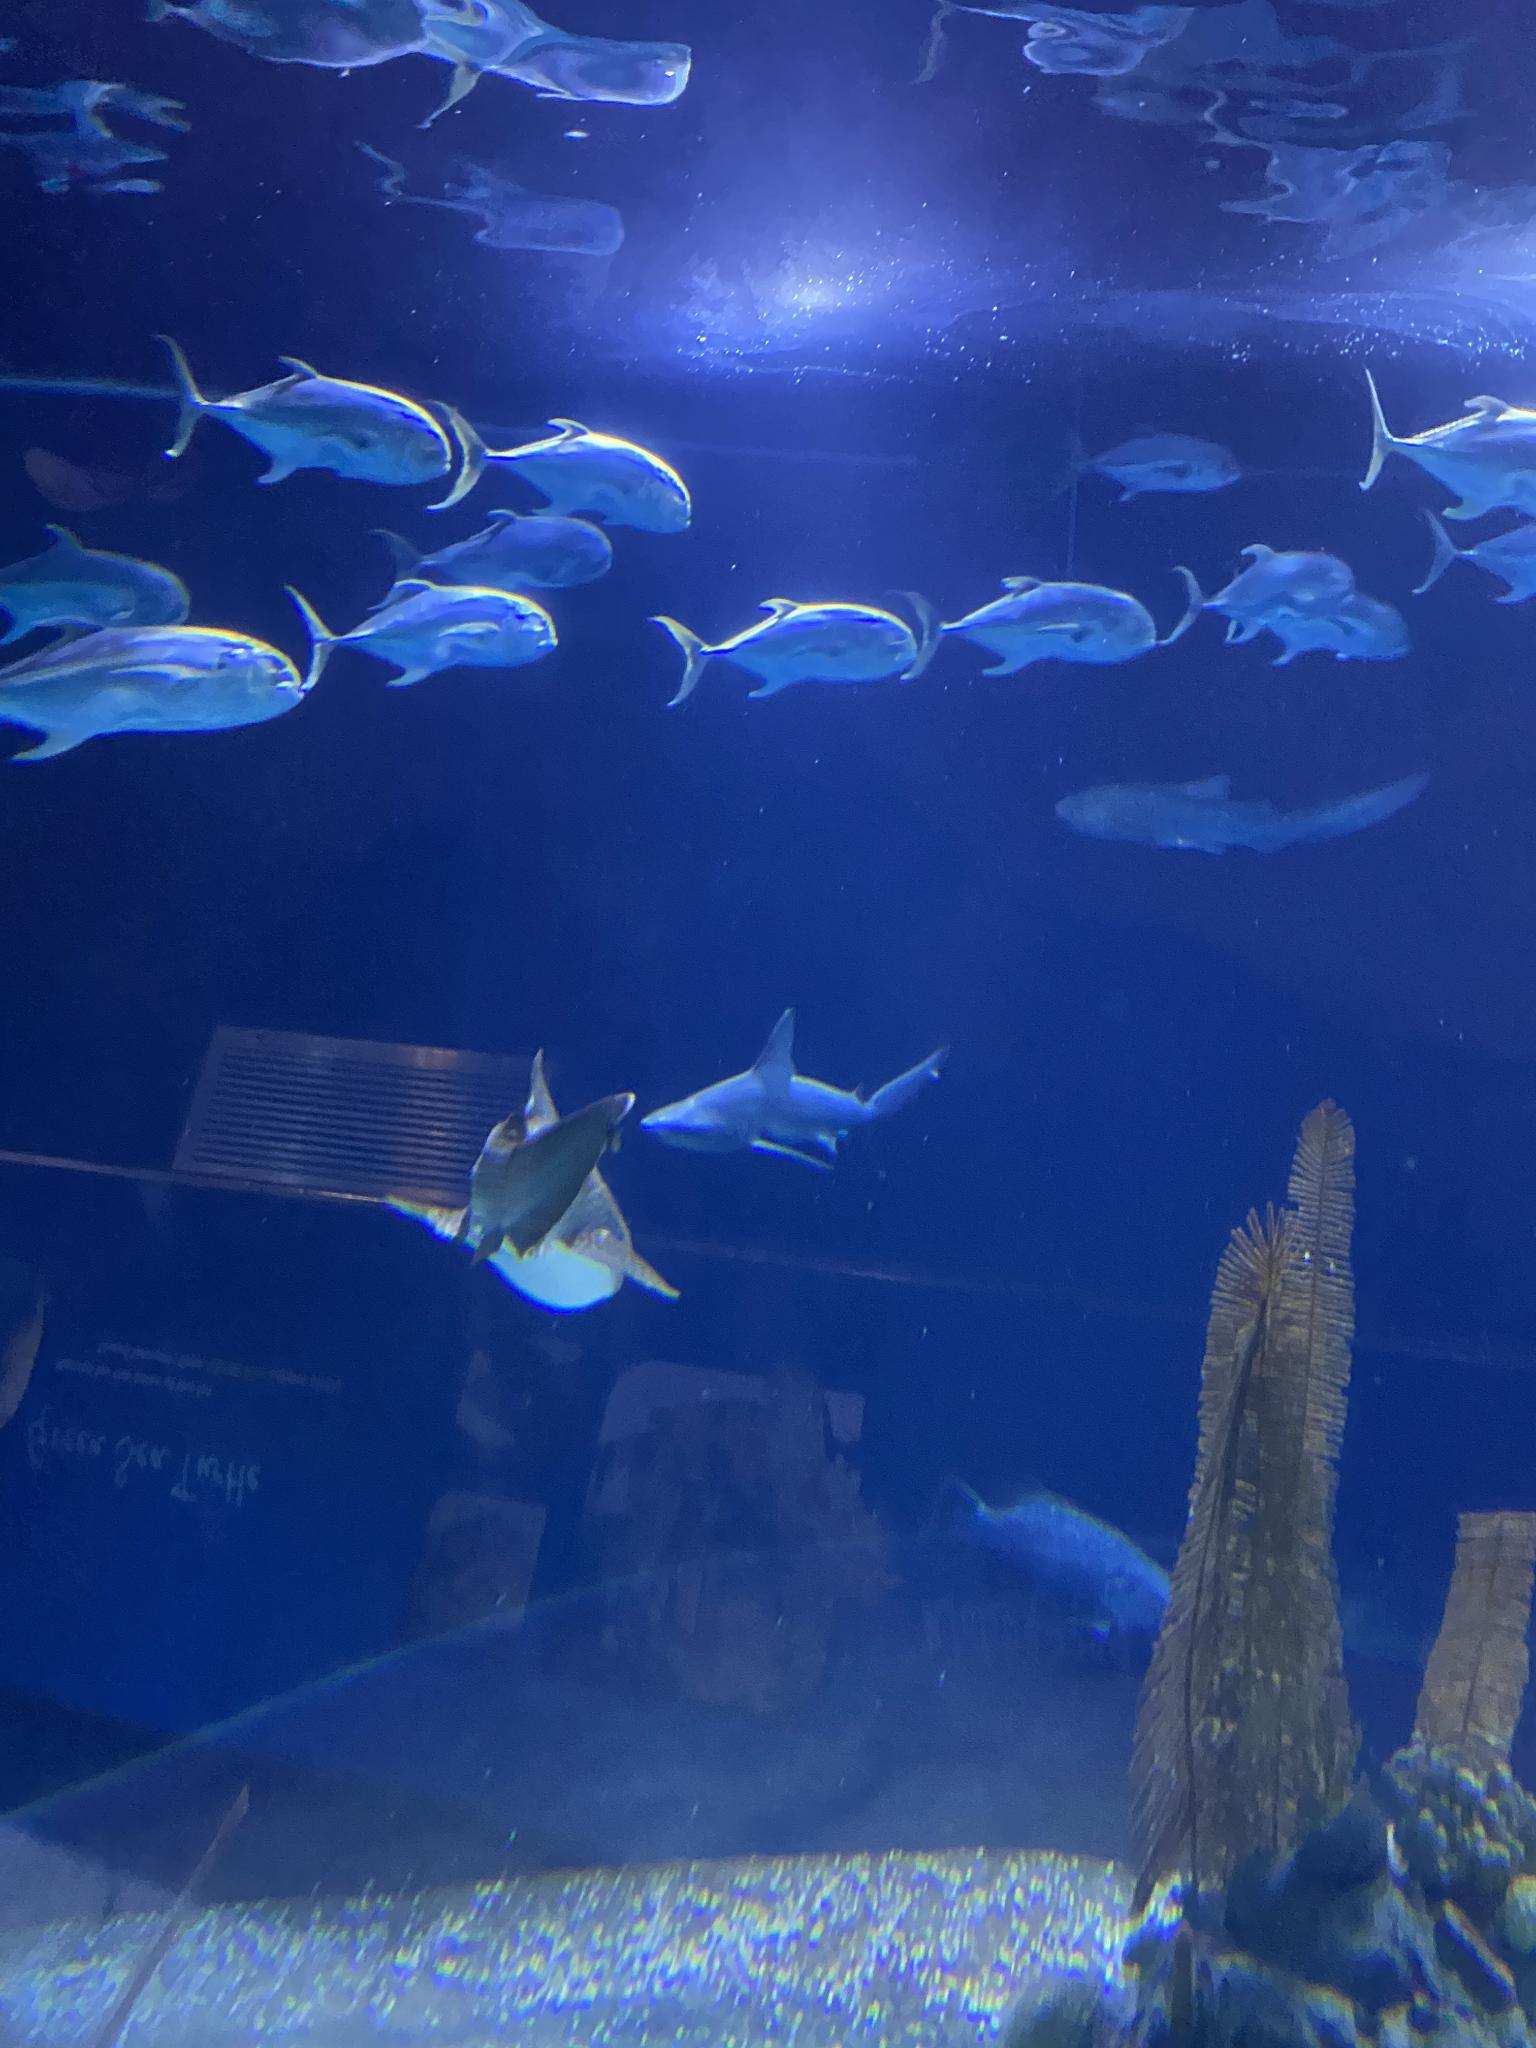fish: (158, 331, 453, 492), (925, 1471, 1176, 1643), (0, 627, 300, 763), (428, 395, 689, 534), (649, 600, 920, 713), (287, 584, 557, 692), (905, 569, 1154, 681), (1365, 363, 1536, 519), (0, 526, 189, 642), (1155, 543, 1354, 647), (374, 521, 616, 589), (1228, 593, 1410, 672), (1055, 429, 1238, 505), (1415, 510, 1534, 598)
shark: (387, 1043, 674, 1313), (637, 1005, 944, 1171), (1060, 771, 1426, 856)
